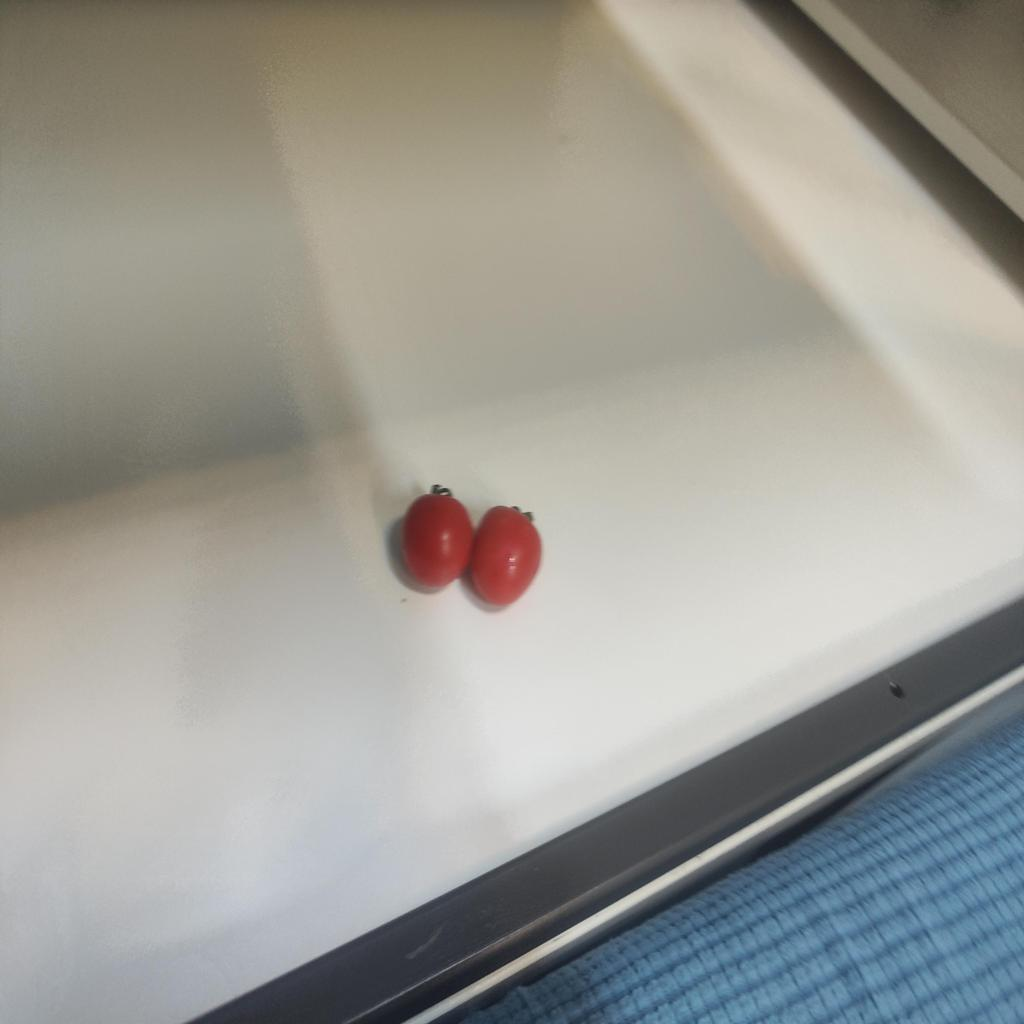tomato: (465, 500, 549, 604), (401, 485, 471, 599)
